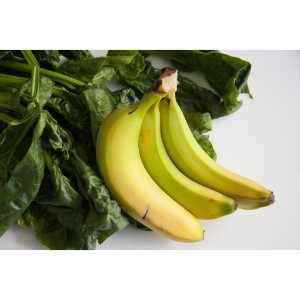banana_brain food: (107, 103, 240, 239)
